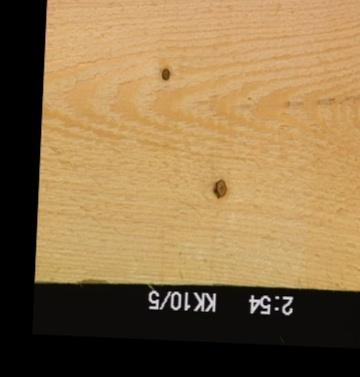dry_knot: (211, 177, 227, 199), (159, 66, 170, 81)
